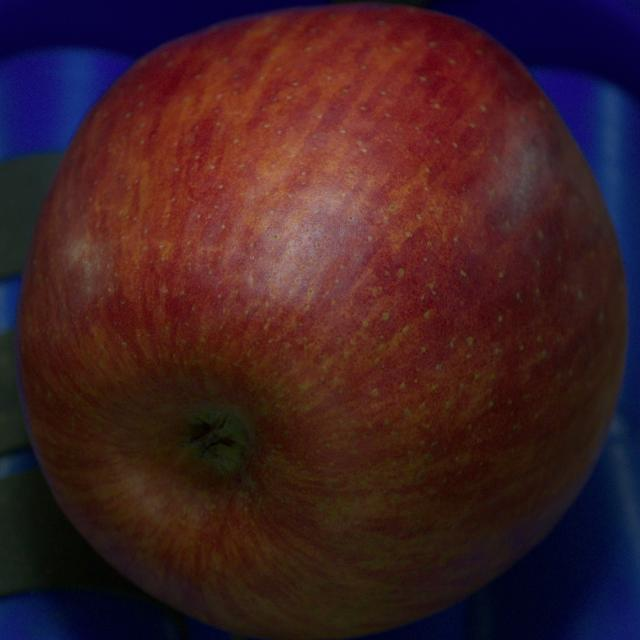apple: (14, 4, 628, 639)
